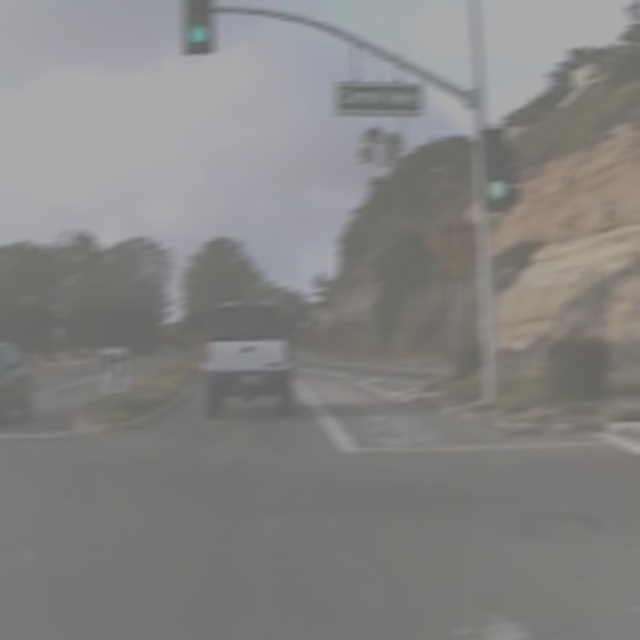keepRight: (99, 345, 128, 396)
